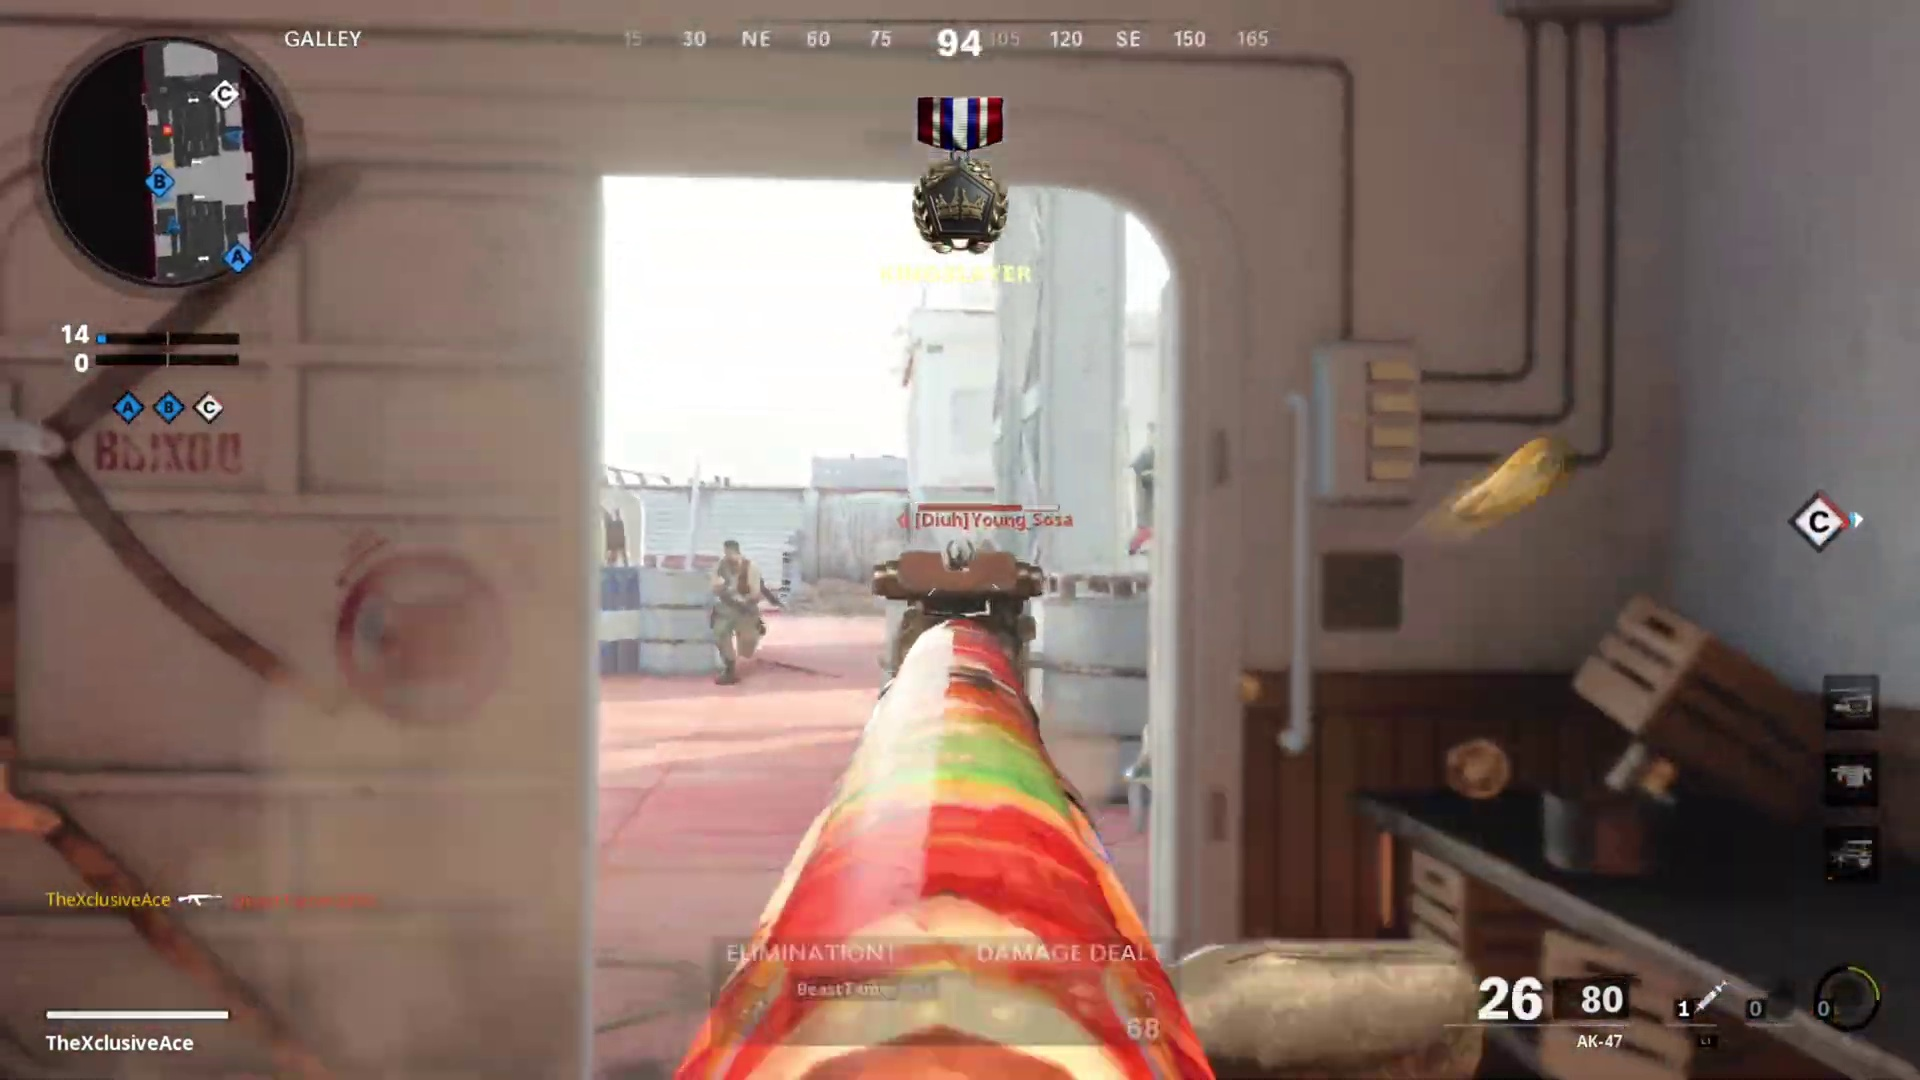head: (718, 536, 748, 576)
person: (704, 536, 770, 681)
